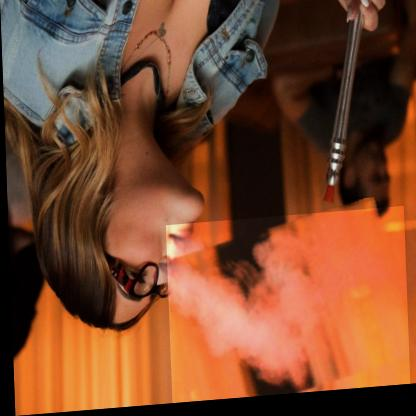smoke: (164, 213, 407, 406)
